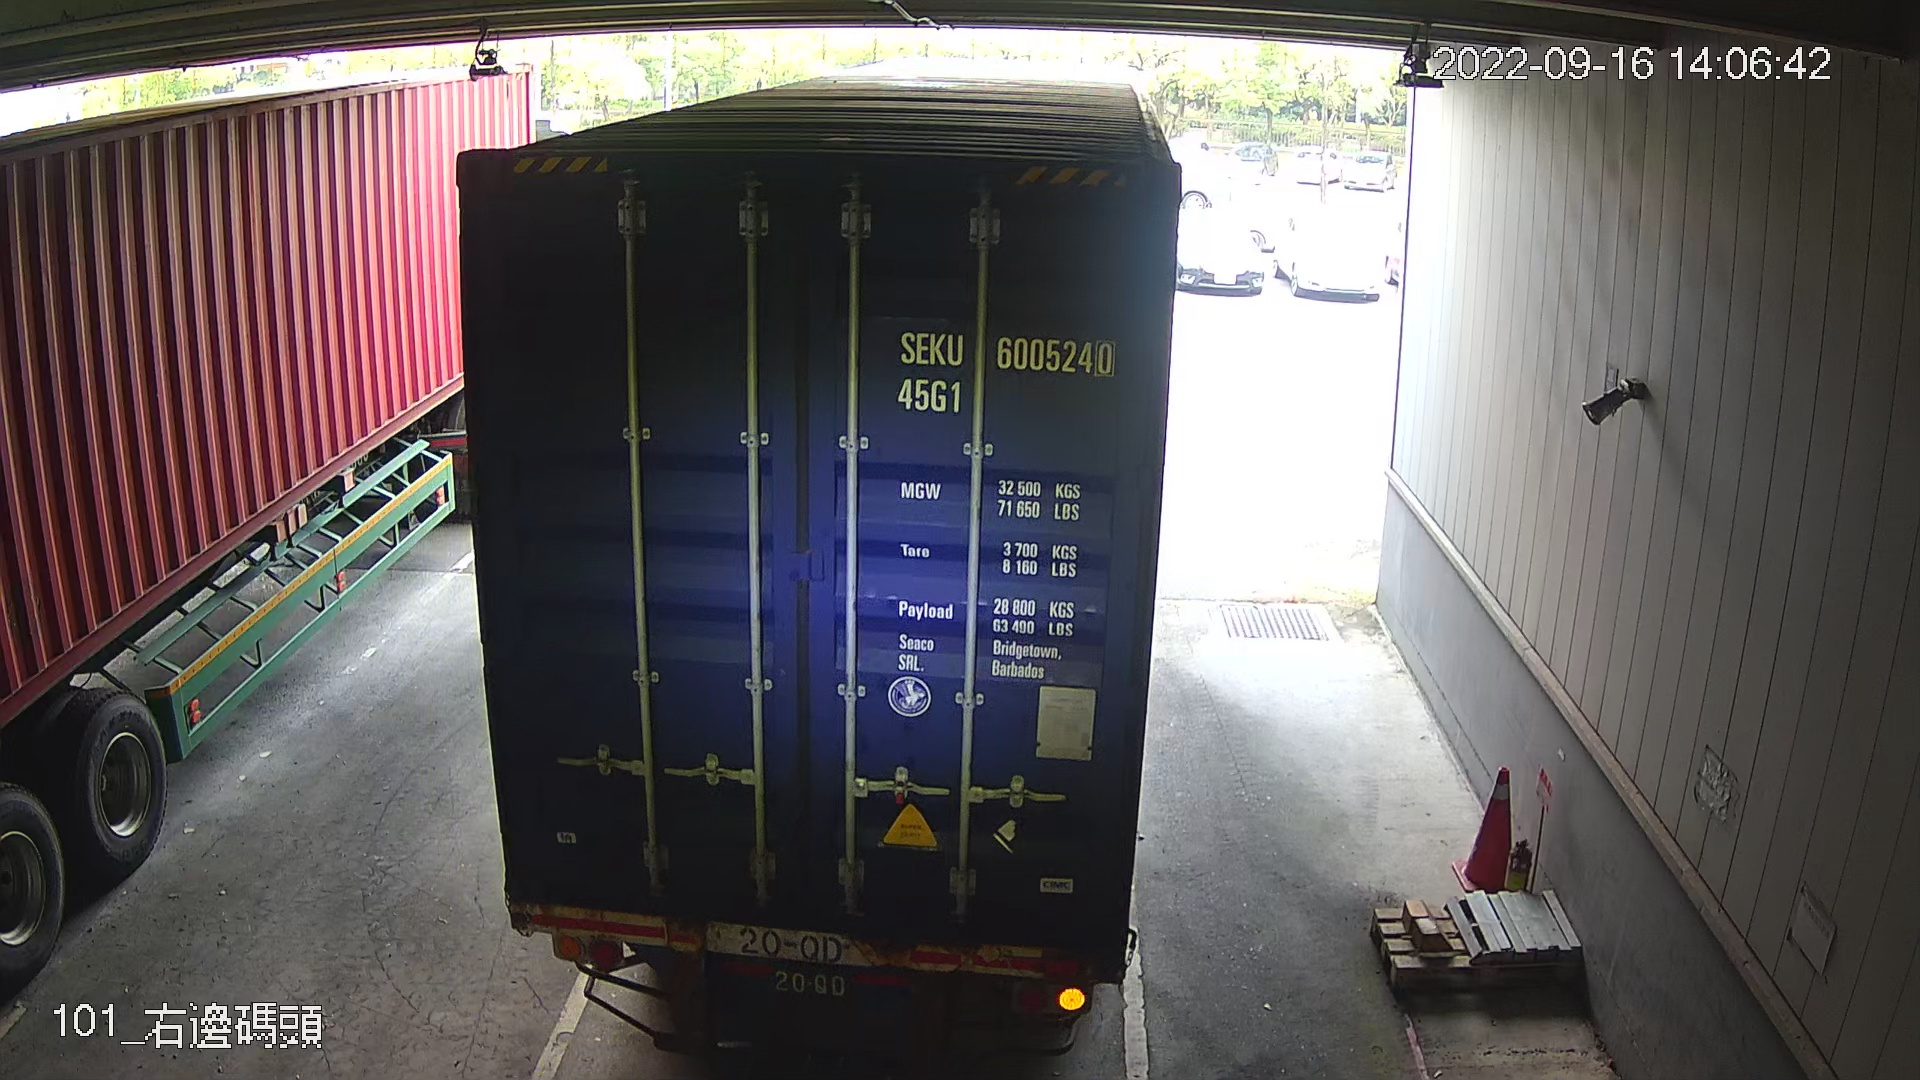container: (881, 324, 1124, 426)
